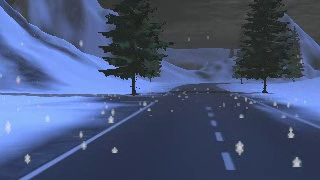Lane: (24, 82, 318, 179)
